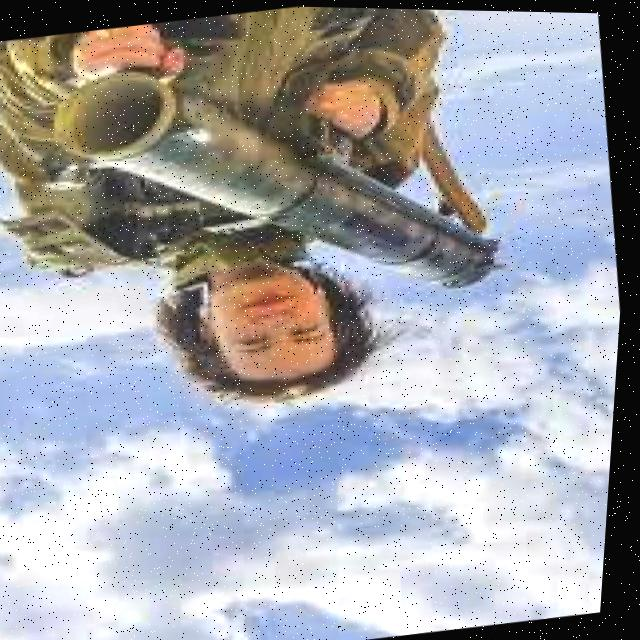rocket: (31, 16, 534, 351)
